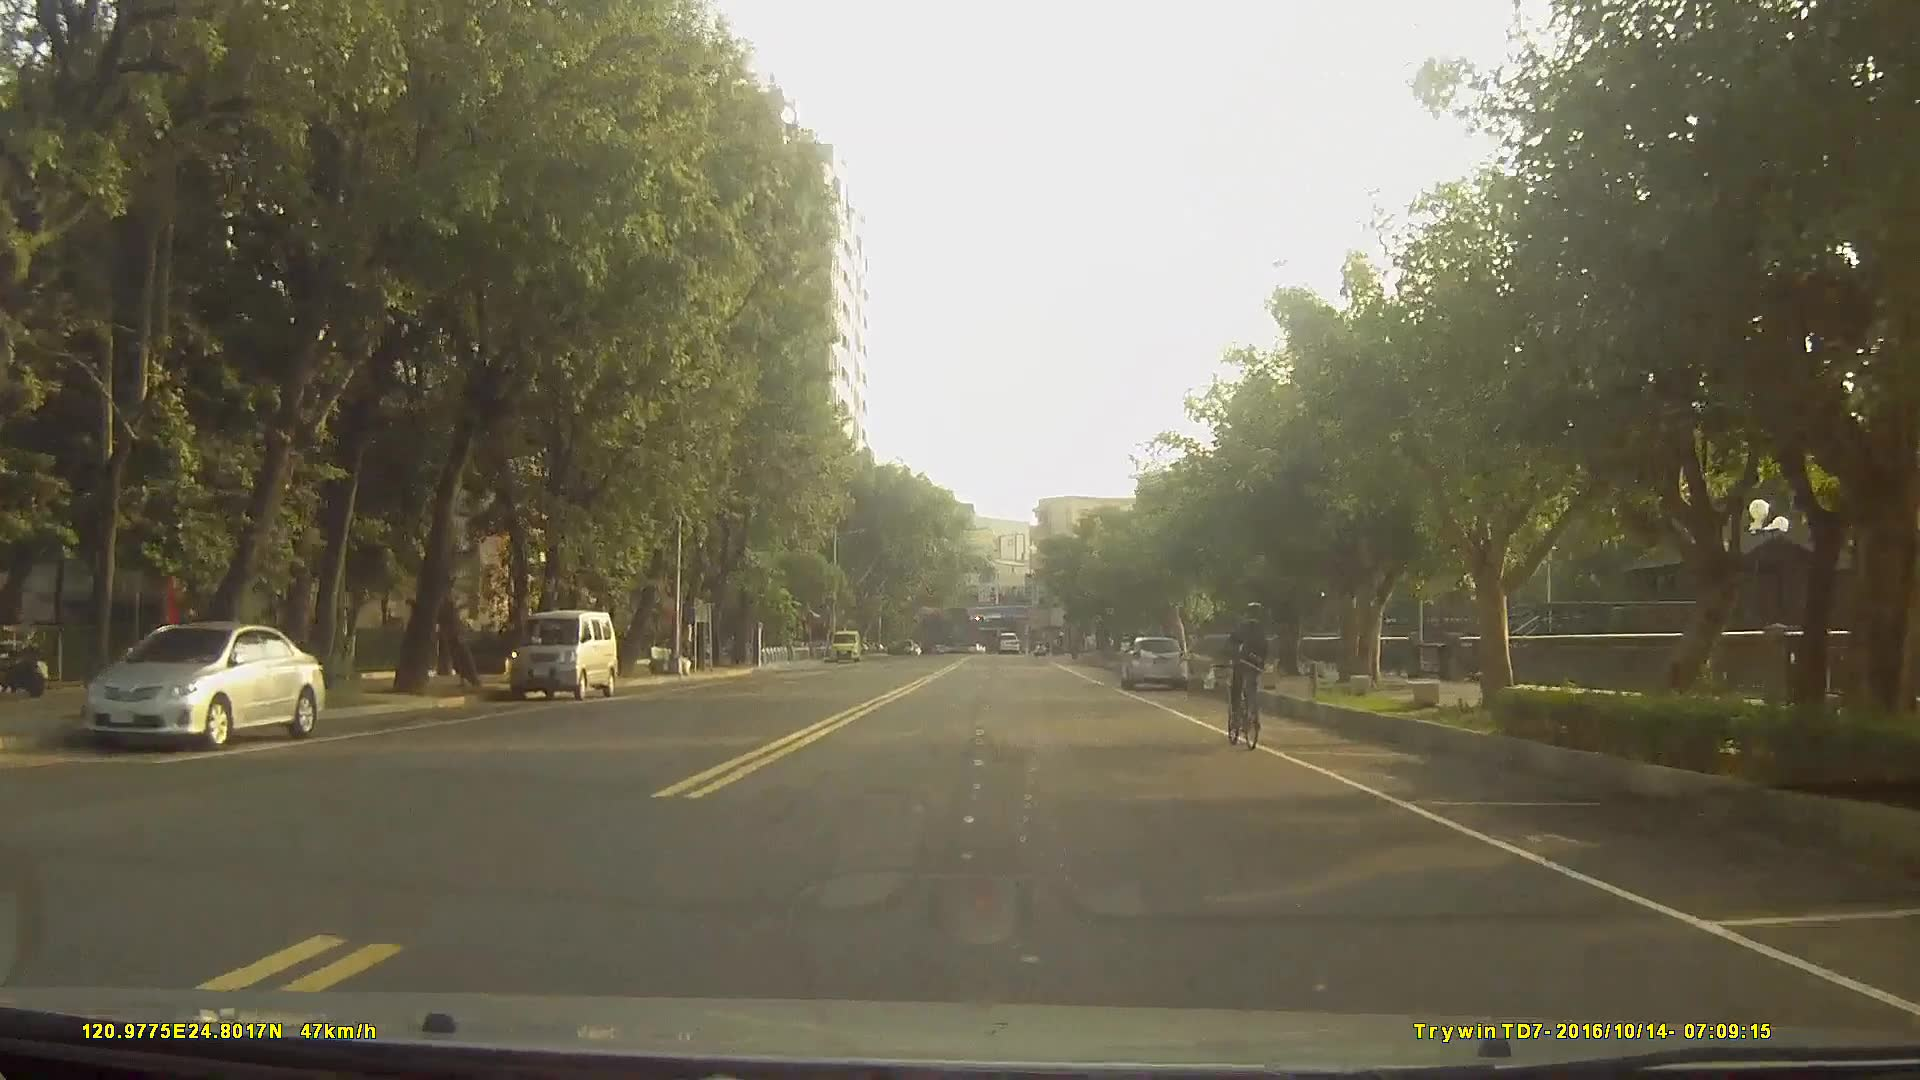rider: (1229, 593, 1272, 742)
vehicle: (78, 618, 328, 748), (508, 606, 618, 700), (1118, 633, 1191, 692), (995, 628, 1019, 652)
